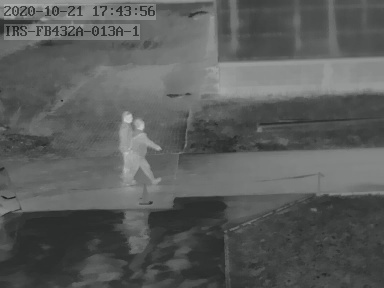person: (128, 119, 161, 185), (115, 110, 136, 172)
